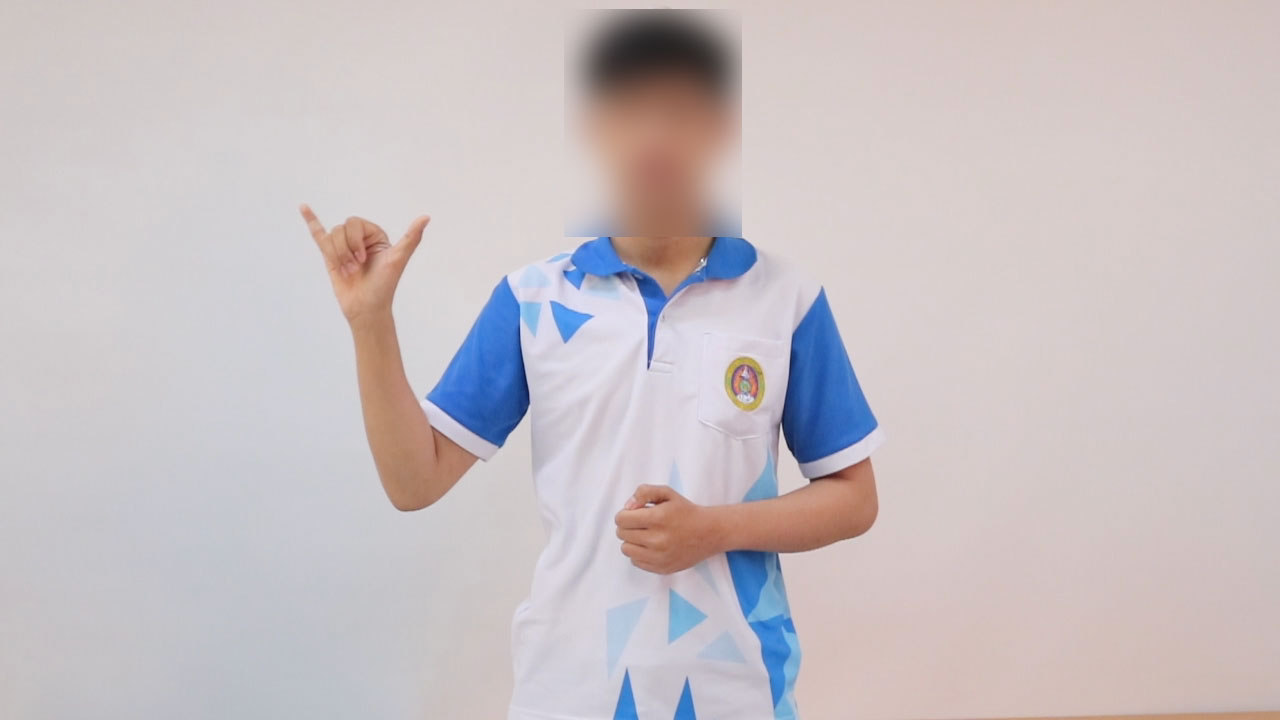yor: (286, 196, 441, 329)
